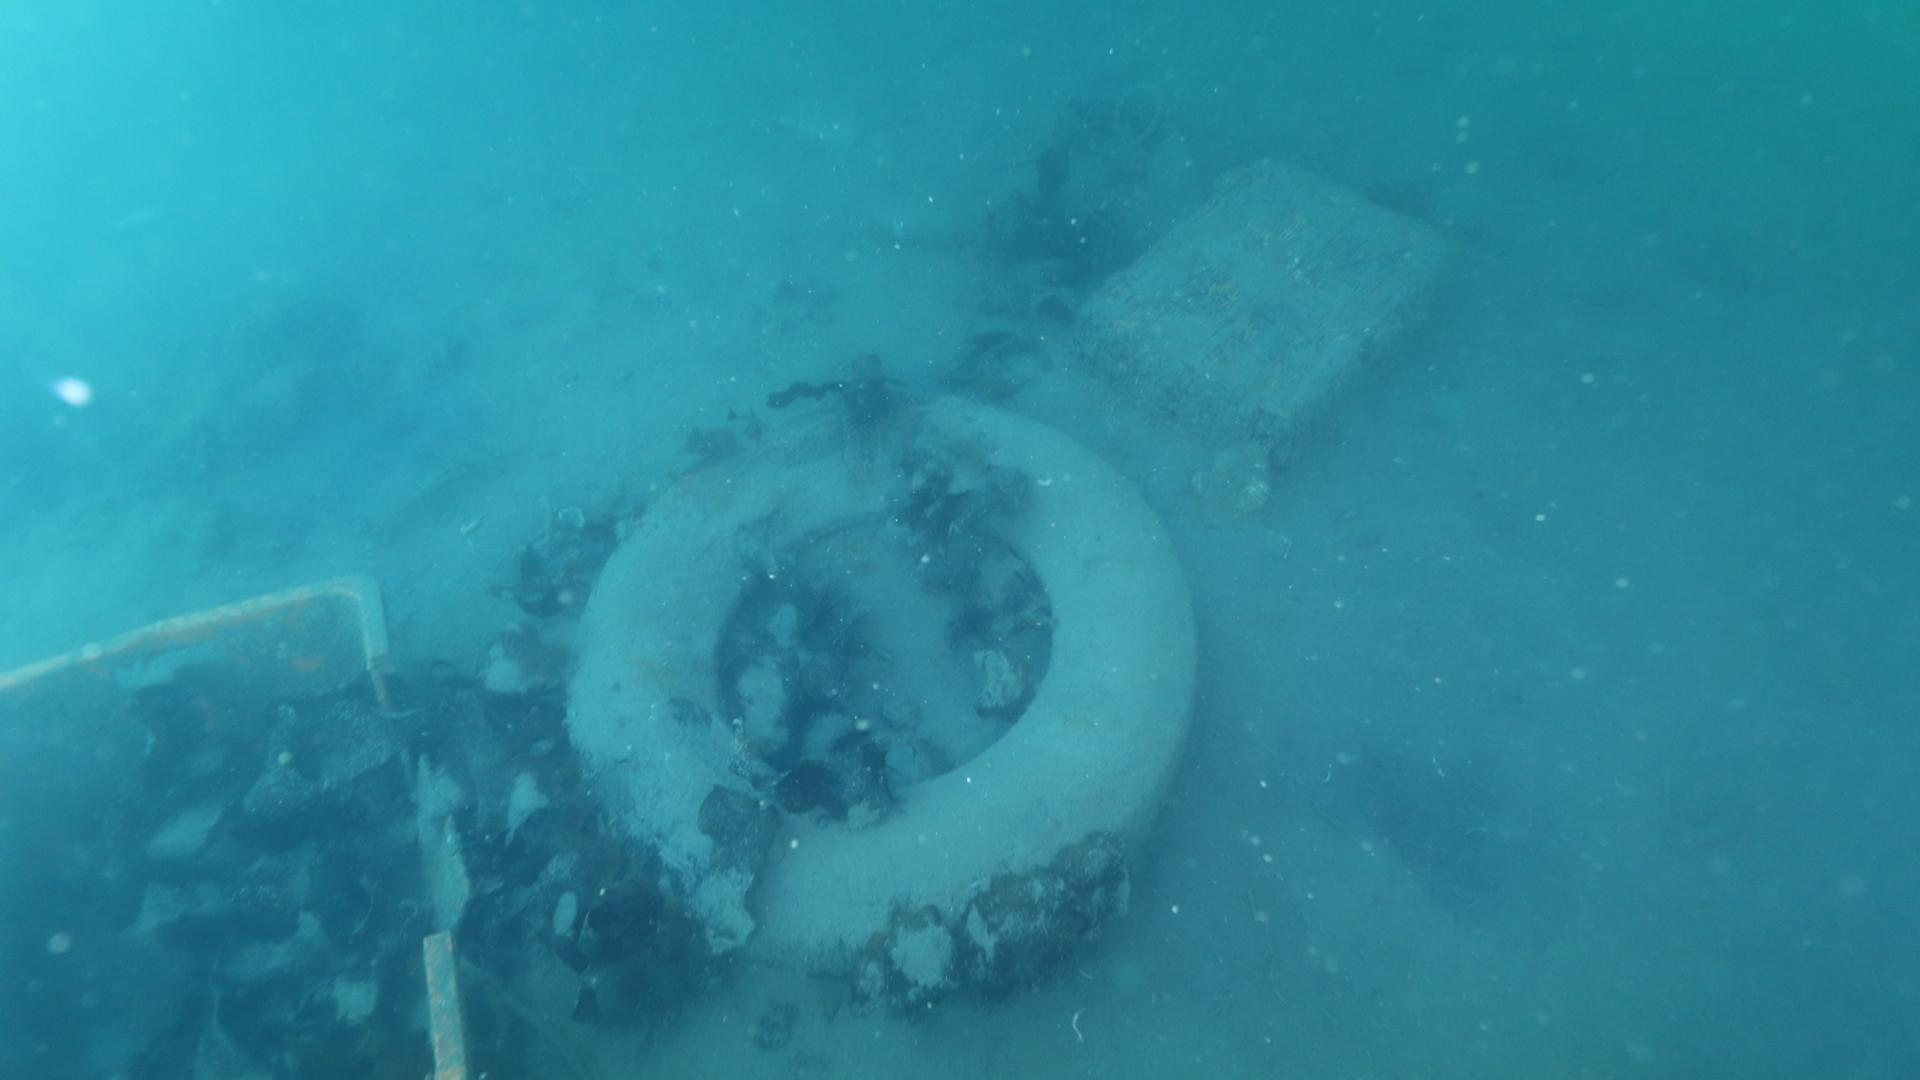tire: (555, 386, 1204, 998)
